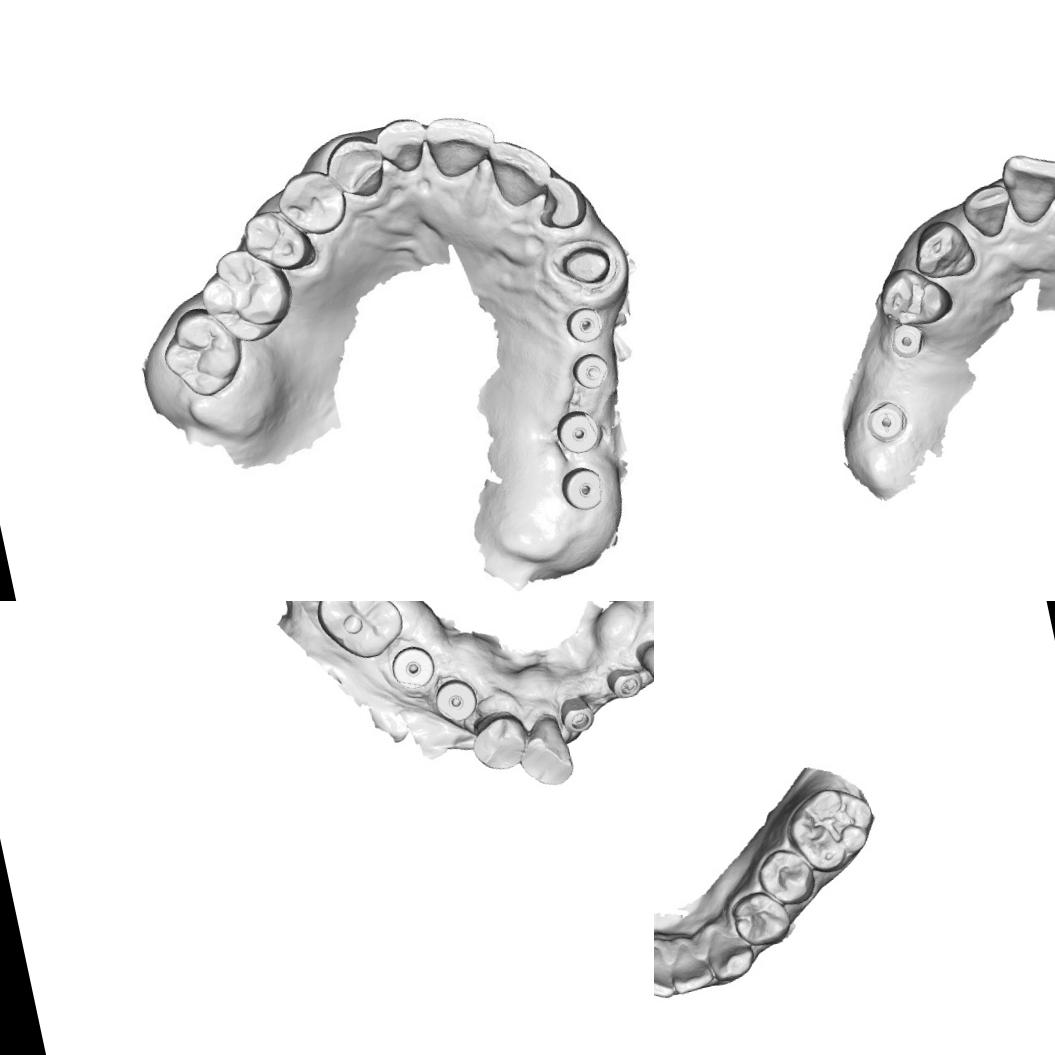canine: (321, 130, 393, 204), (510, 715, 576, 793), (909, 217, 980, 286), (701, 920, 760, 986), (639, 637, 654, 711)
crown: (552, 231, 621, 300)
implant: (553, 460, 612, 516), (386, 640, 439, 693), (551, 408, 604, 458), (431, 675, 480, 723), (569, 347, 614, 394), (563, 303, 608, 349), (558, 690, 600, 736), (883, 320, 925, 362), (606, 662, 642, 700)
implant_minus: (863, 395, 912, 446)
incisor: (424, 111, 498, 182), (998, 145, 1055, 228), (485, 137, 551, 208), (531, 172, 589, 235), (959, 180, 1018, 241), (376, 115, 433, 178), (662, 942, 718, 1001), (654, 944, 678, 1004)
molar: (191, 238, 299, 352), (778, 778, 884, 880), (151, 299, 248, 405), (310, 601, 408, 667)
premolar: (234, 199, 321, 281), (272, 164, 352, 244), (875, 260, 956, 334), (752, 842, 822, 912), (727, 886, 797, 952), (466, 709, 532, 778)
